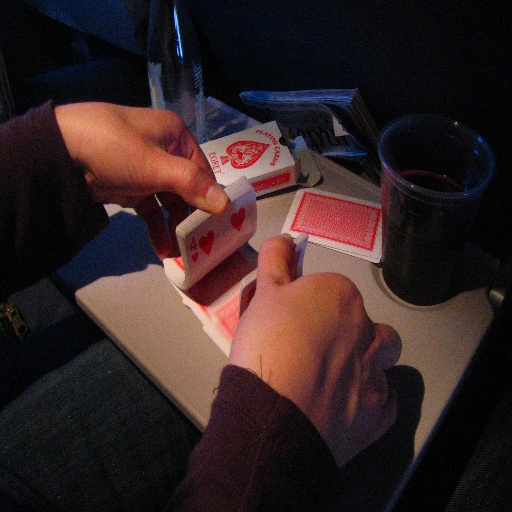hand: (226, 231, 403, 473), (47, 95, 227, 227)
